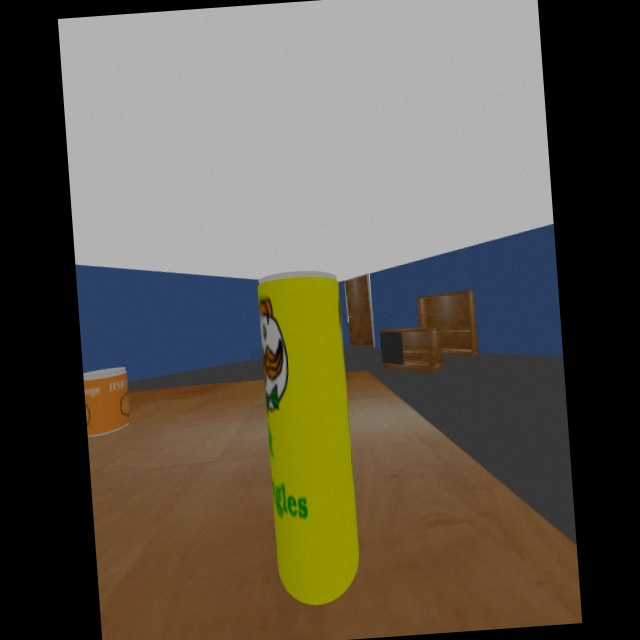chipsdose_gelb: (258, 271, 360, 606)
